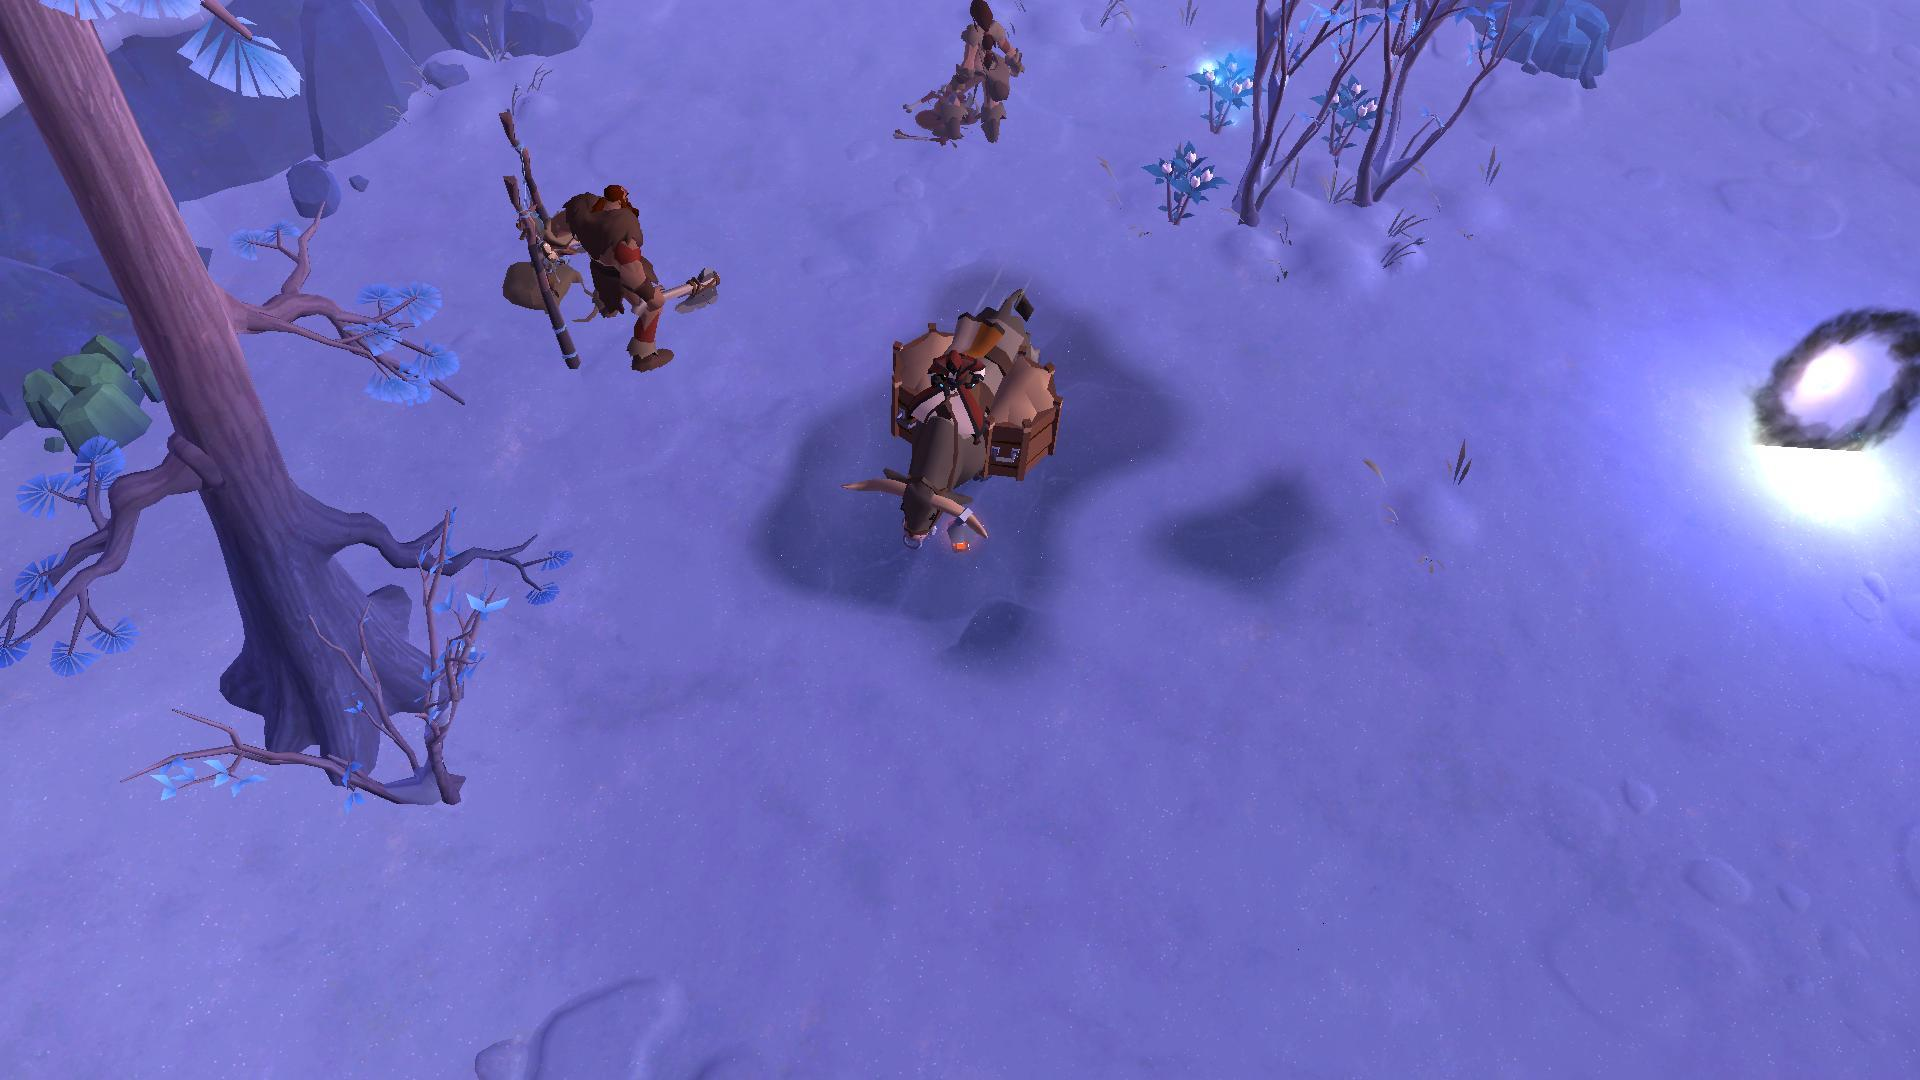enemy_factionKeeper: (542, 174, 720, 372), (919, 0, 1027, 150)
fiber_t4: (1180, 40, 1263, 137), (1139, 138, 1220, 223), (1313, 71, 1385, 161)
rock_t3: (16, 313, 171, 458)
